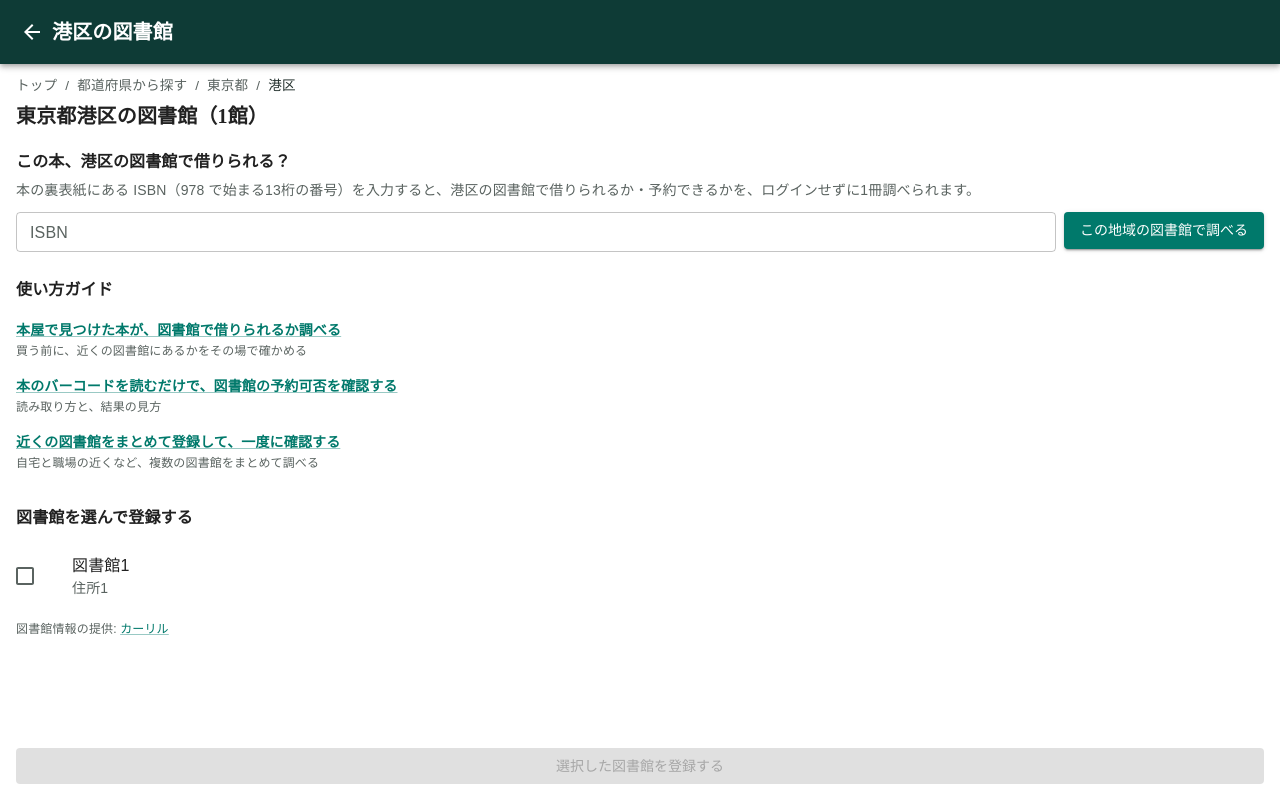
Test case: LibraryListPage › navigates to the library management page after registration
Step 1. Click the text "図書館1" → coordinates (101, 566), box [72,557,130,574]
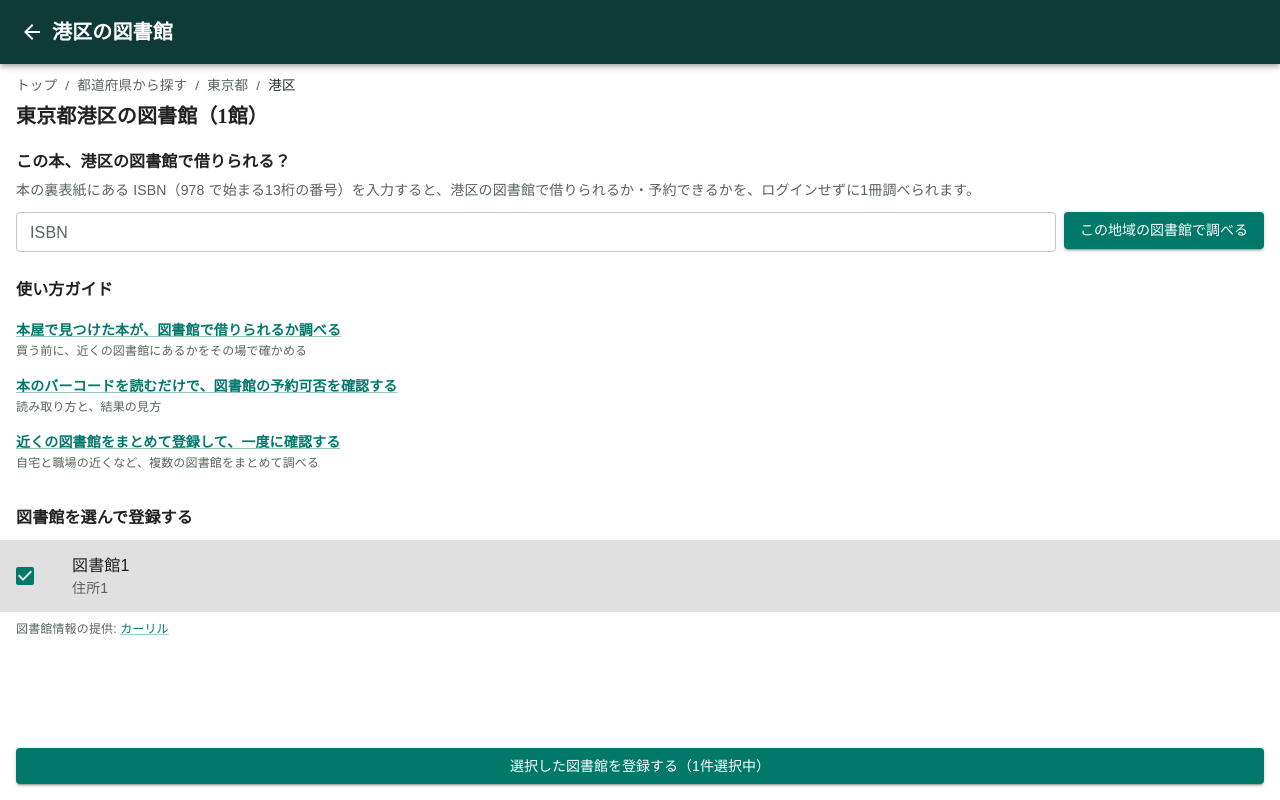
Step 2. Click the button "選択した図書館を登録する（1件選択中）" → coordinates (640, 766), box [16,748,1264,784]
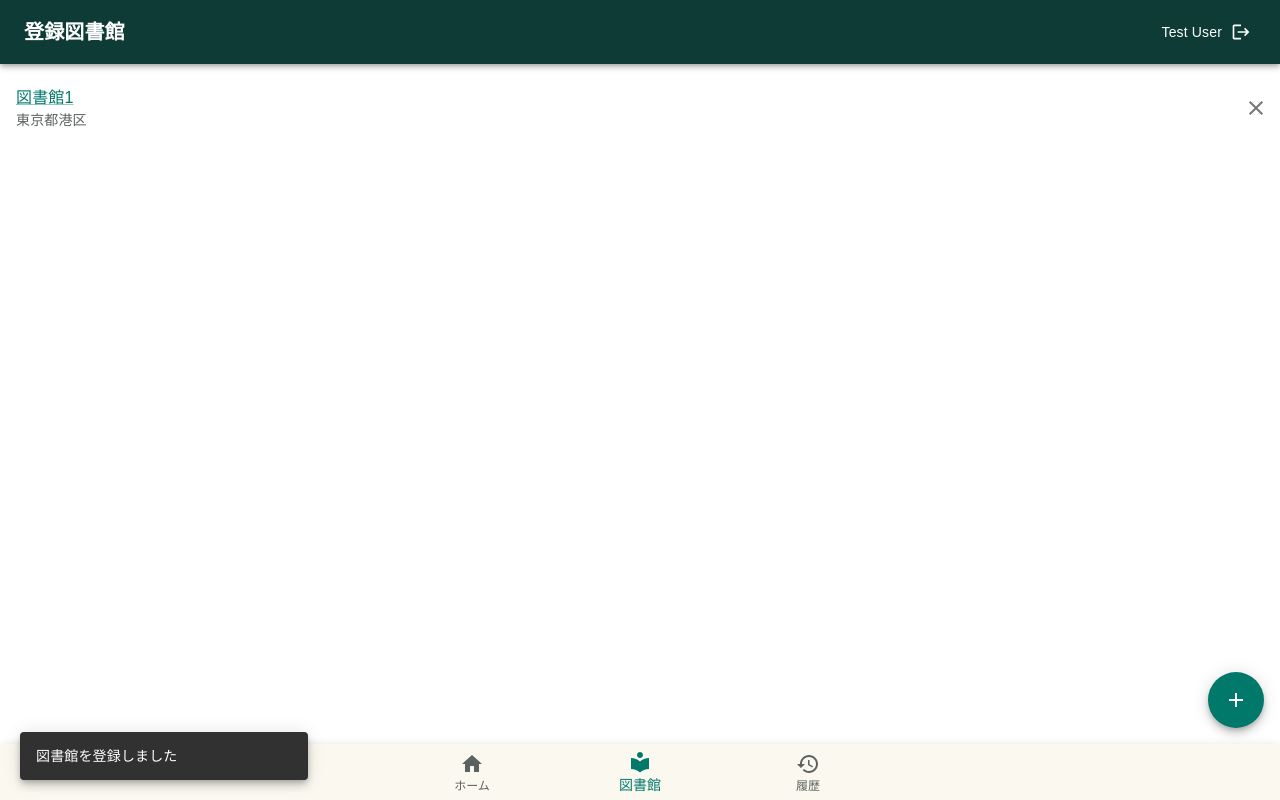
expect the link "図書館1" is shown: met, box [16,89,74,106]
expect the text "登録図書館" is shown: met, box [24,21,125,43]
